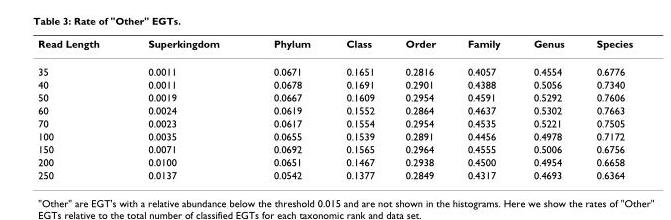table: (37, 37, 632, 180)
table column: (123, 37, 245, 180), (37, 37, 123, 180), (245, 37, 327, 180), (450, 37, 516, 180), (516, 37, 579, 180), (327, 37, 389, 180), (389, 37, 450, 180), (579, 37, 632, 180)
table column header: (37, 37, 632, 57)
table row: (37, 37, 632, 57), (37, 57, 632, 77), (37, 77, 632, 90), (37, 90, 632, 103), (37, 103, 632, 116), (37, 116, 632, 129), (37, 129, 632, 142), (37, 142, 632, 155), (37, 155, 632, 168), (37, 168, 632, 180)
